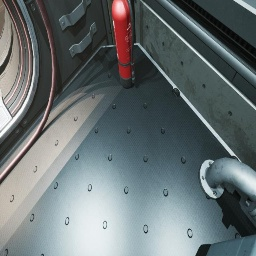FireExtinguisher ]: (112, 0, 135, 88)
